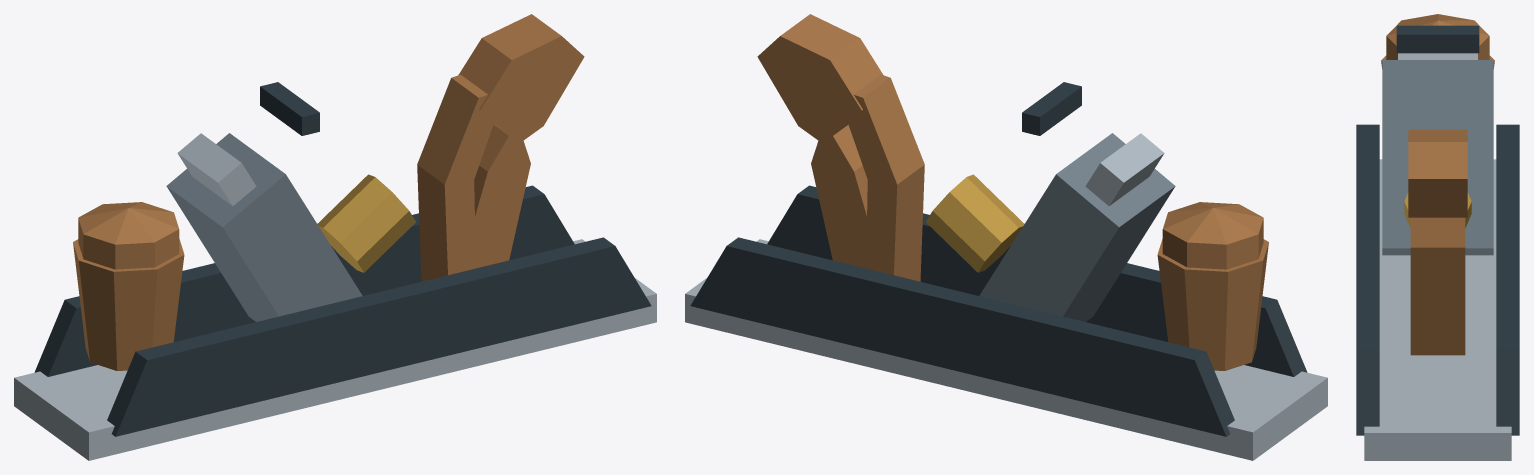
The model's file is b06_hand_plane.glb.
The picture shows the model from 3 angles, left to right: view 1: azimuth 30°, elevation 25°; view 2: azimuth 150°, elevation 25°; view 3: azimuth 270°, elevation 25°; orthographic projection.
Visible parts, largest first — view 1: b06_hand_plane; view 2: b06_hand_plane; view 3: b06_hand_plane.
Part boxes in pixels (left/top/right/bottom): b06_hand_plane: left=14, top=14, right=656, bottom=460; b06_hand_plane: left=685, top=14, right=1327, bottom=460; b06_hand_plane: left=1356, top=14, right=1519, bottom=460.
Bounding box in the file's own units: 0.25 × 0.121 × 0.063.
